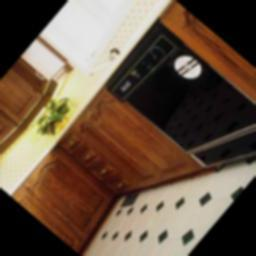Electrodomestico: (107, 21, 256, 195)
